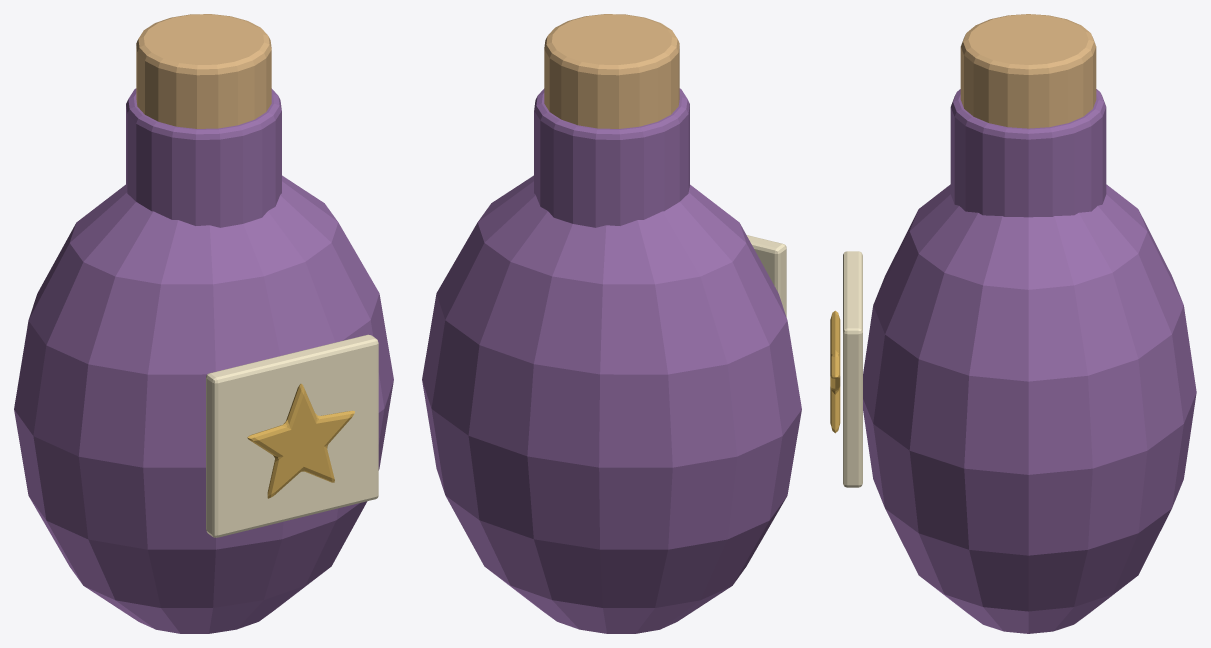
File: P023_potion_bottle.glb
3 renders of one model, left to right at view 1: azimuth 30°, elevation 25°; view 2: azimuth 150°, elevation 25°; view 3: azimuth 270°, elevation 25°, orthographic.
Visible parts, largest first — view 1: P023_bottle_001, P023_tag_004, P023_neck_002, P023_cork_003, P023_mark_005; view 2: P023_bottle_001, P023_neck_002, P023_cork_003, P023_tag_004; view 3: P023_bottle_001, P023_neck_002, P023_cork_003, P023_tag_004, P023_mark_005.
Boxes of the visible parts, left/top/right/bottom form: P023_bottle_001: left=14, top=175, right=393, bottom=633; P023_tag_004: left=206, top=334, right=378, bottom=537; P023_neck_002: left=126, top=88, right=281, bottom=227; P023_cork_003: left=136, top=14, right=271, bottom=128; P023_mark_005: left=247, top=383, right=354, bottom=498; P023_bottle_001: left=422, top=175, right=801, bottom=633; P023_neck_002: left=534, top=88, right=689, bottom=227; P023_cork_003: left=544, top=14, right=679, bottom=128; P023_tag_004: left=746, top=235, right=786, bottom=316; P023_bottle_001: left=863, top=184, right=1196, bottom=633; P023_neck_002: left=950, top=89, right=1106, bottom=217; P023_cork_003: left=960, top=14, right=1096, bottom=128; P023_tag_004: left=843, top=251, right=862, bottom=487; P023_mark_005: left=830, top=310, right=840, bottom=433.
Bounding box in the file's own units: 0.156 × 0.255 × 0.146.
